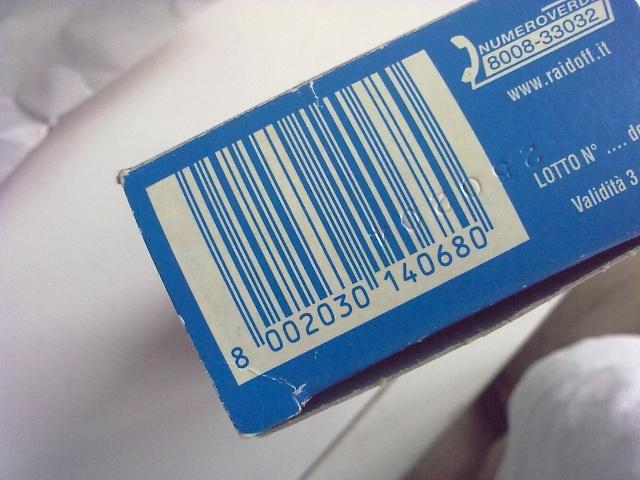Barcode: (172, 57, 498, 375)
